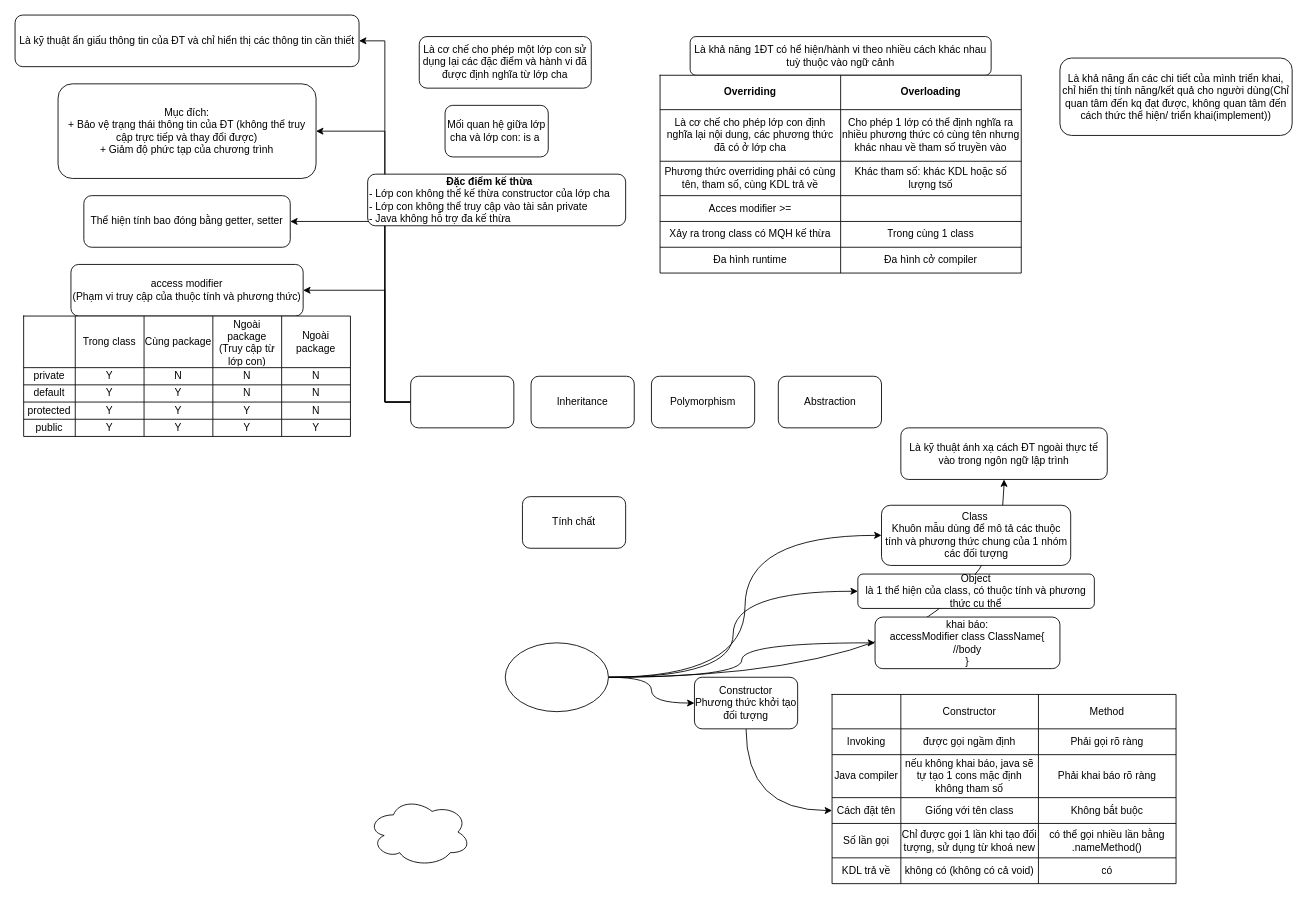
Some shapes in this 1307 by 899 pixel diagram are drawn without their labels. Here are the shapes that lost their labels. From the top down, the centre of each, then its label:
At point (462, 401): "Encapsulation".
At point (556, 677): "OOP".
At point (419, 831): "MODULE 2".
